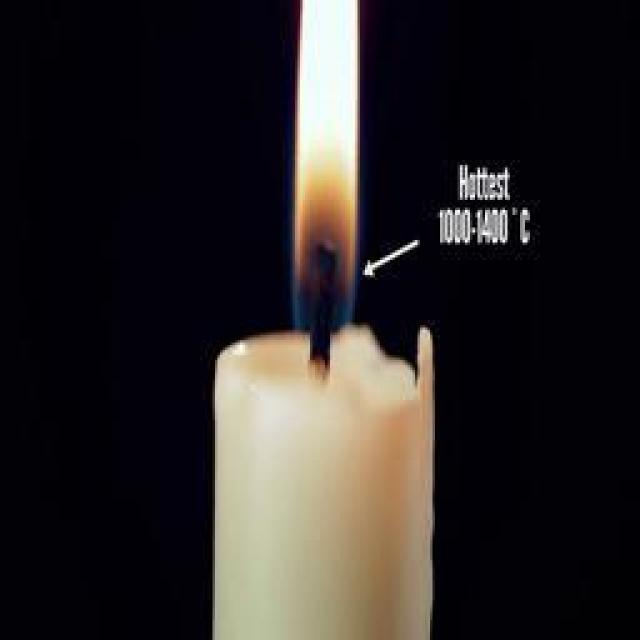Fire: (291, 0, 361, 335)
